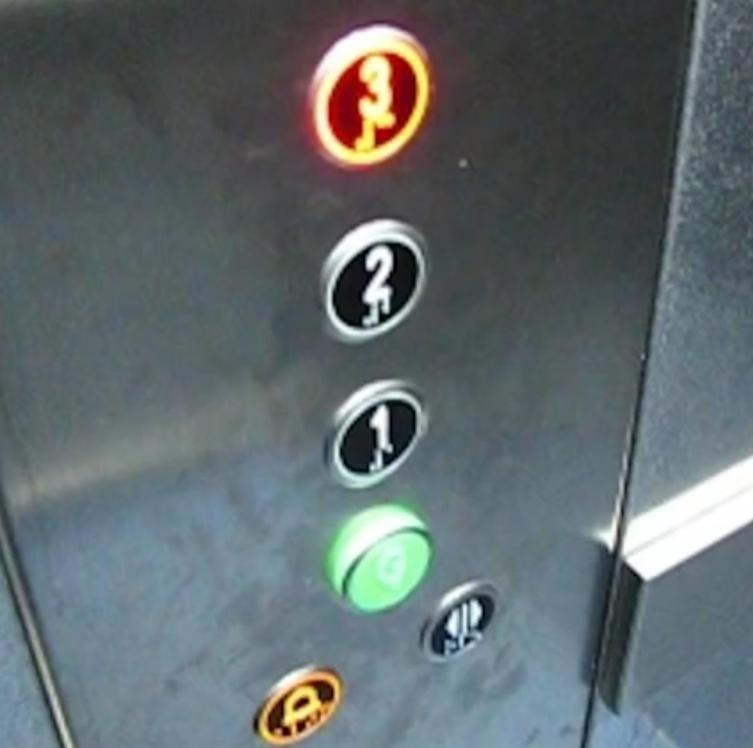1: (319, 375, 439, 494)
2: (311, 208, 437, 351)
3: (301, 16, 443, 178)
alarm: (247, 657, 349, 748)
call: (324, 500, 435, 618)
open: (415, 579, 506, 667)
